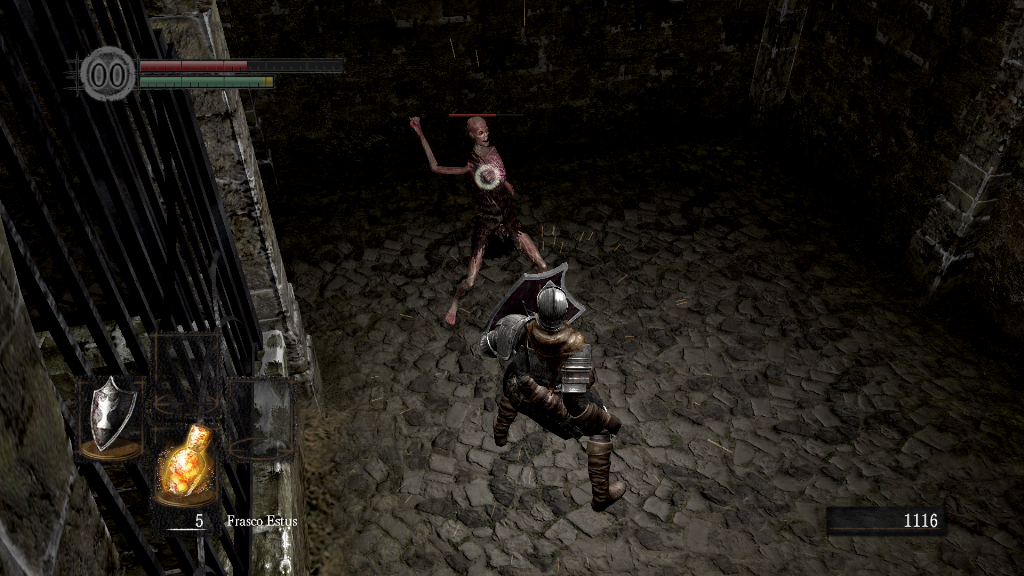health: (138, 58, 343, 71)
hollow: (405, 112, 564, 327)
humanity: (80, 45, 136, 102)
player: (478, 263, 630, 515)
souls: (825, 506, 945, 536)
stamina: (138, 74, 274, 88)
